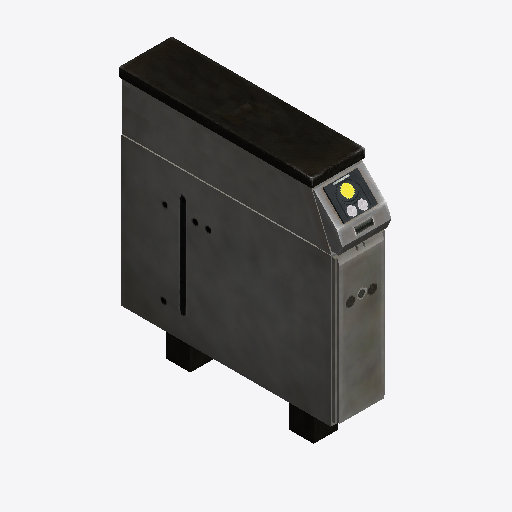
Isometric view (azimuth 45°, elevation 35.3°) of a Minecraft model made of 16 cuboids, textured from the same repository.
Visible parts, largest first — element 7, крышка, element 10, element 13, element 14, element 5, element 3, element 2, element 9, ножка1, ножка 2, element 6 (+1 smaller).
Boxes of the visible parts, x1=… form: element 7: x1=121, y1=134, x2=336, y2=426; крышка: x1=119, y1=37, x2=364, y2=187; element 10: x1=337, y1=240, x2=383, y2=423; element 13: x1=122, y1=106, x2=317, y2=246; element 14: x1=122, y1=84, x2=306, y2=211; element 5: x1=323, y1=168, x2=377, y2=223; element 3: x1=313, y1=162, x2=385, y2=229; element 2: x1=324, y1=202, x2=390, y2=246; element 9: x1=332, y1=230, x2=384, y2=422; ножка1: x1=289, y1=403, x2=337, y2=443; ножка 2: x1=166, y1=332, x2=212, y2=371; element 6: x1=298, y1=160, x2=362, y2=254.
Bounding box in the file's own units: 5.25 × 24.03 × 21.91.